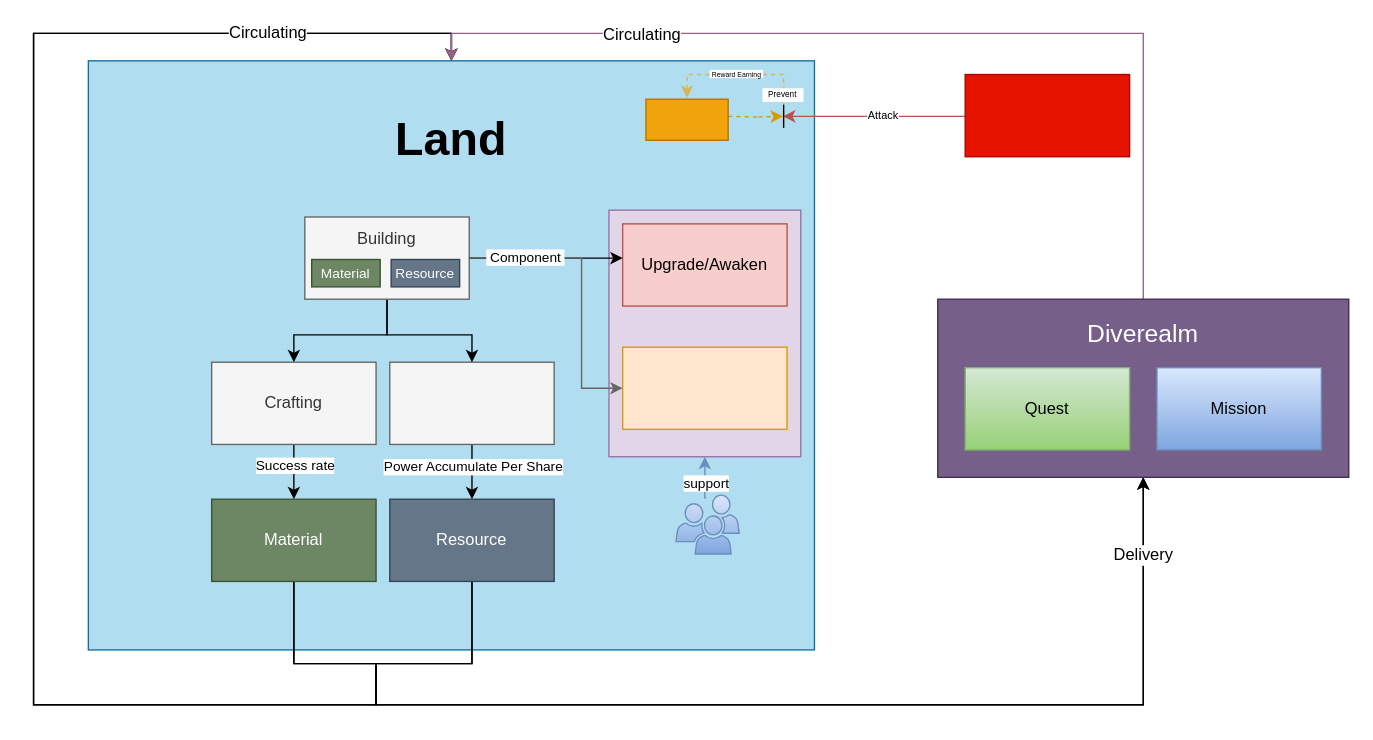
Image size: 1373x740. Some labels were removed from this diagram. Each missing label, with the centre of its shape:
"Disaster" goes at point (1047, 115).
"Mining" goes at point (471, 402).
"Refill/Repair" goes at point (704, 387).
"Residence" goes at point (707, 524).
"Utility Building" goes at point (686, 119).
